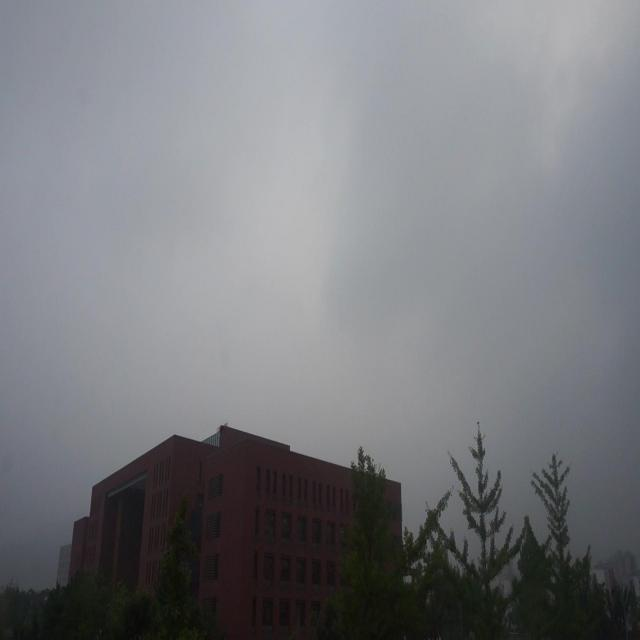UAV: (217, 422, 228, 435)
